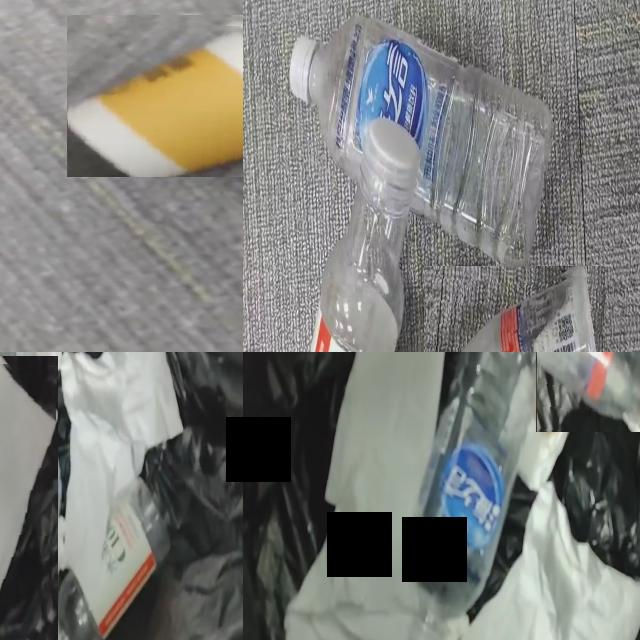bottle: (290, 18, 552, 269), (412, 352, 549, 640), (314, 119, 416, 352), (55, 477, 171, 640), (0, 352, 61, 601), (464, 275, 599, 352), (537, 352, 640, 426)
dixie_cup: (68, 27, 243, 177)
paper: (286, 352, 444, 640), (60, 352, 182, 622), (461, 483, 640, 640), (0, 364, 56, 596), (498, 367, 580, 490), (37, 600, 68, 640), (51, 518, 68, 569)
